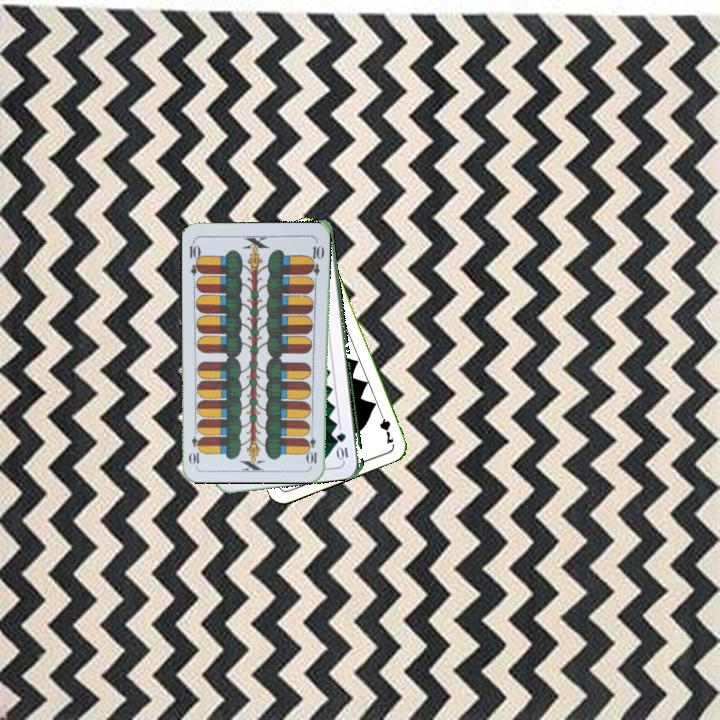E10: (185, 237, 204, 278), (305, 426, 319, 466)
G10: (334, 428, 351, 463)
G7: (375, 406, 397, 447)
